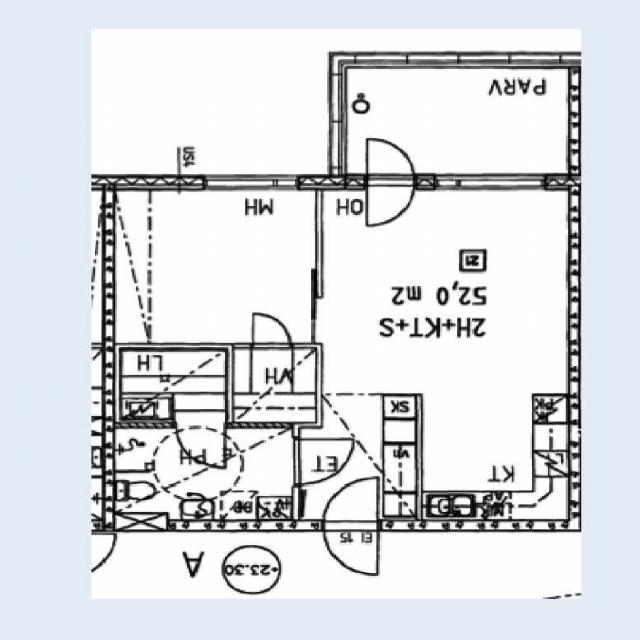door: (323, 520, 378, 578), (323, 474, 378, 531), (292, 439, 353, 484), (367, 135, 413, 190), (367, 174, 413, 229), (176, 422, 223, 468), (252, 312, 290, 348)
